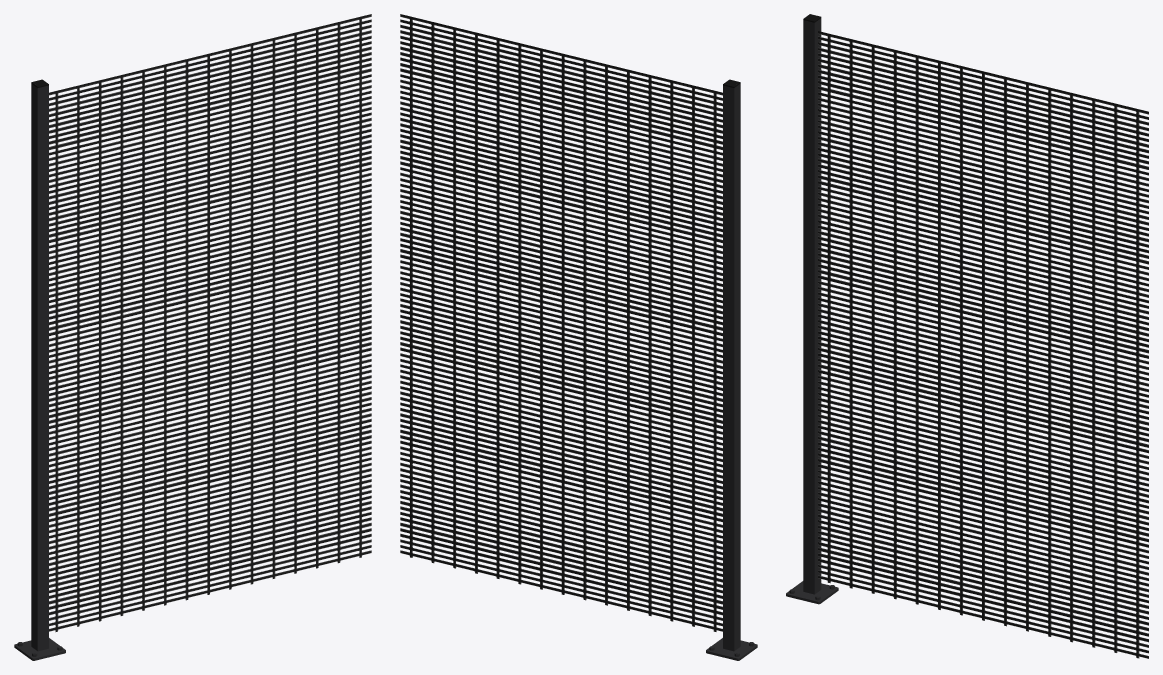
File: SM05_Safety_Fence_01_Straight_1500.fbx
3 renders of one model, left to right at view 1: azimuth 30°, elevation 25°; view 2: azimuth 150°, elevation 25°; view 3: azimuth 330°, elevation 25°, orthographic.
Parts seen in each view (by area): view 1: SM05_Safety_Fence_01_Straight_1500; view 2: SM05_Safety_Fence_01_Straight_1500; view 3: SM05_Safety_Fence_01_Straight_1500.
Boxes of the visible parts, x1,y1,x2,y2 form: SM05_Safety_Fence_01_Straight_1500: (14,14,371,660); SM05_Safety_Fence_01_Straight_1500: (400,14,757,660); SM05_Safety_Fence_01_Straight_1500: (786,14,1148,658).
Bounding box in the file's own units: 1.55 × 2.41 × 0.15.
